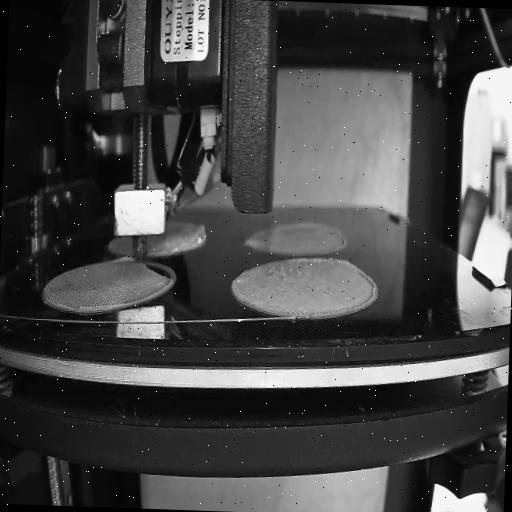over_extrusion: (356, 264, 380, 310), (115, 254, 134, 263)
